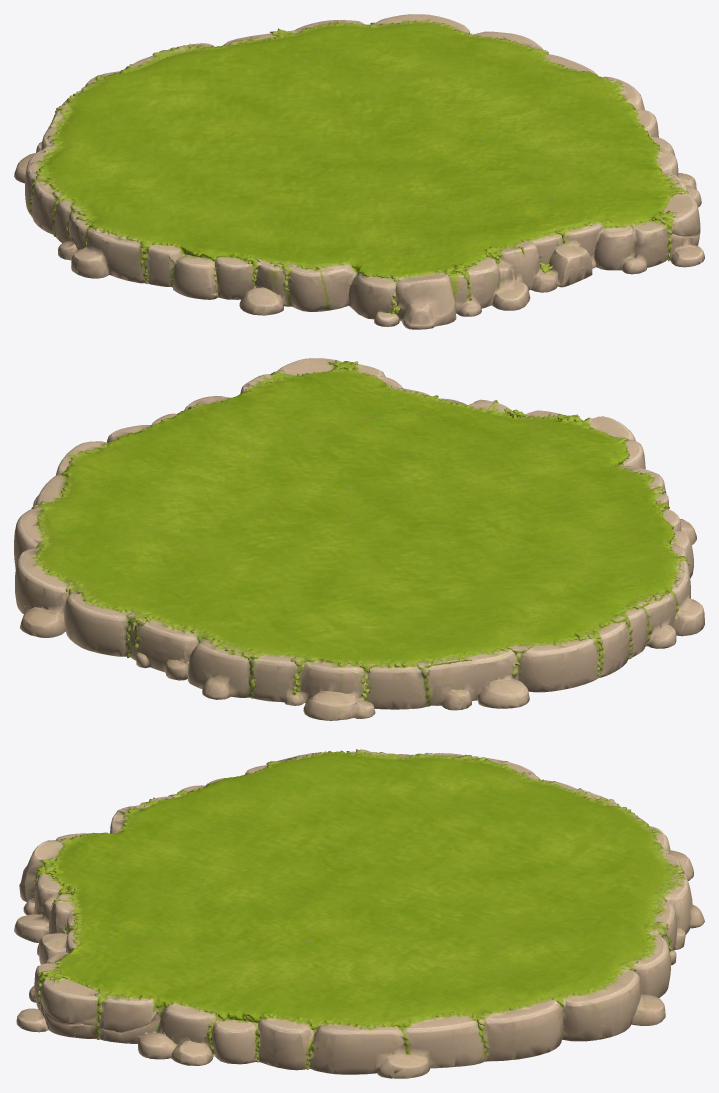
The model's file is floating-island.glb.
3 renders of one model, top to bottom at view 1: azimuth 30°, elevation 25°; view 2: azimuth 150°, elevation 25°; view 3: azimuth 270°, elevation 25°, orthographic. The views are drawn at different scales.
Parts seen in each view (by area): view 1: mesh_node; view 2: mesh_node; view 3: mesh_node.
Boxes of the visible parts, bbox=[...] form: mesh_node: bbox=[14, 14, 704, 329]; mesh_node: bbox=[14, 358, 704, 720]; mesh_node: bbox=[14, 749, 704, 1078].
Bounding box in the file's own units: 1.9 × 0.1348 × 1.85.
Materials: 1 (1 with a texture image).
